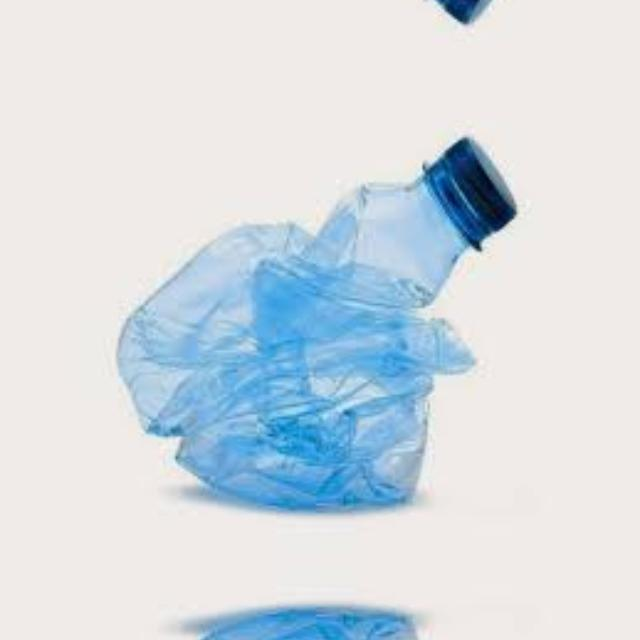Plastic: (58, 102, 540, 540), (57, 578, 540, 640), (57, 0, 540, 58)
